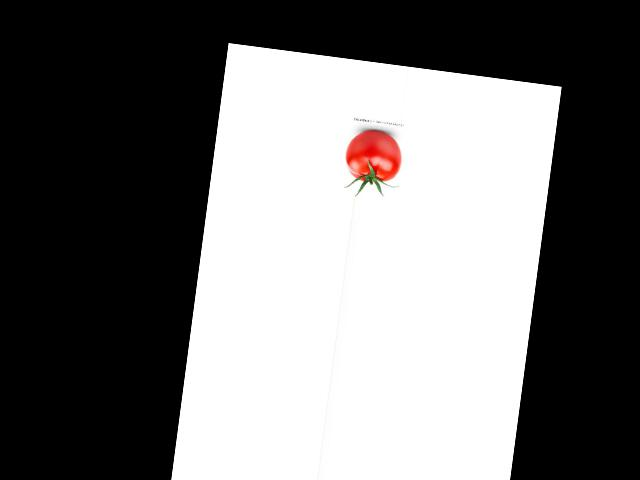tomato: (342, 127, 404, 185)
